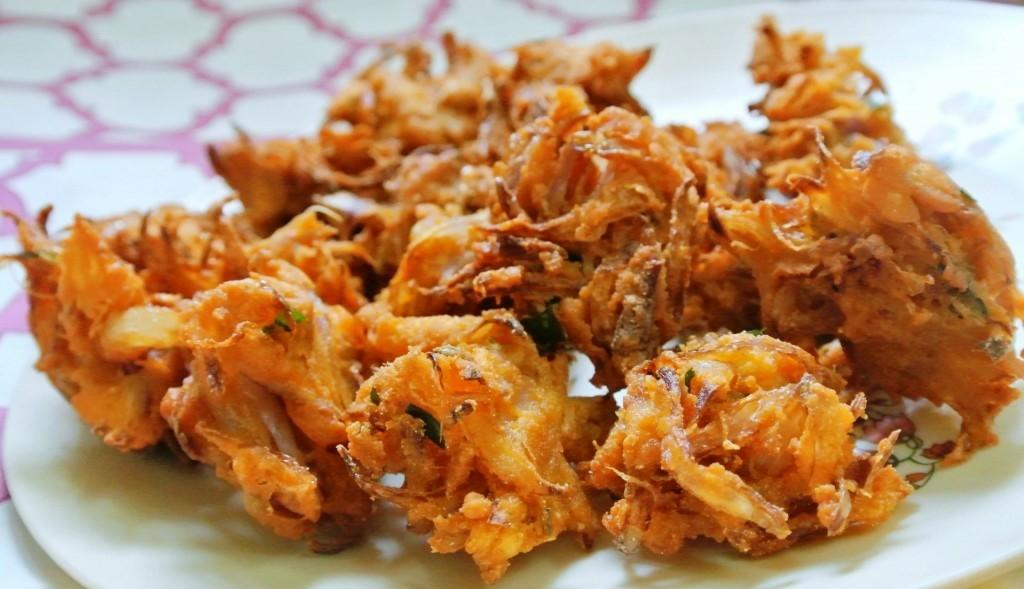OnionPakoda: (4, 24, 1024, 560)
